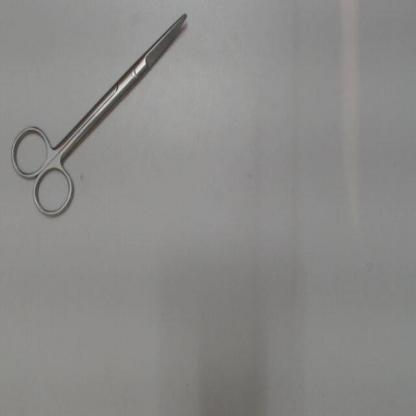Curved Mayo Scissors: (4, 5, 194, 230)
